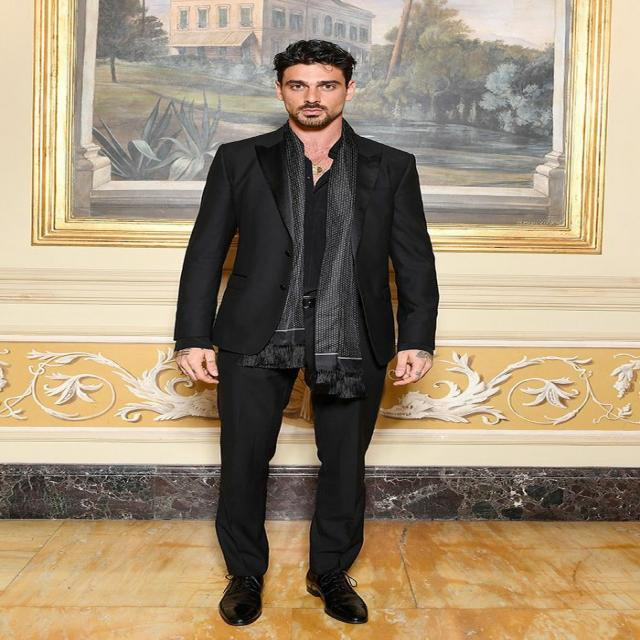male-dress: (187, 132, 455, 610)
